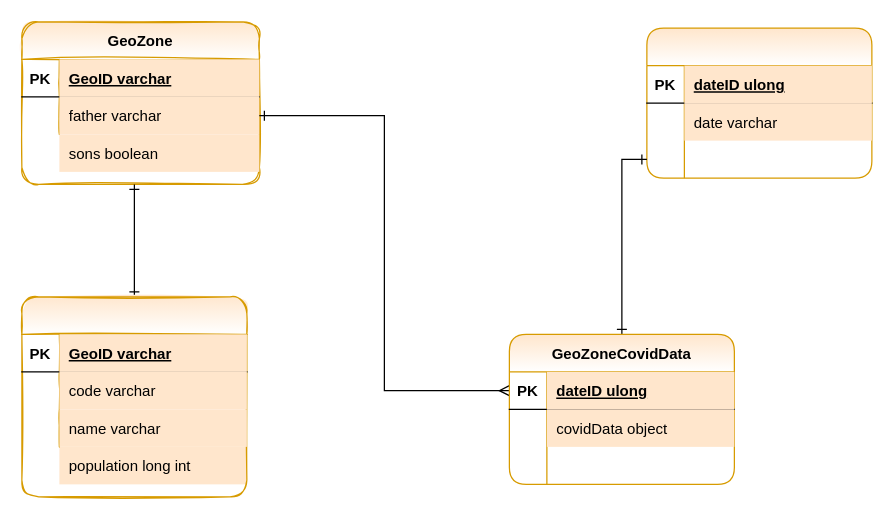
Image size: 893x519. Some labels were removed from this diagram. Here are the shapes that lost their labels. From the top down, the box of each, then its label:
(646, 27, 872, 178): Dates
(21, 296, 247, 497): Paises
